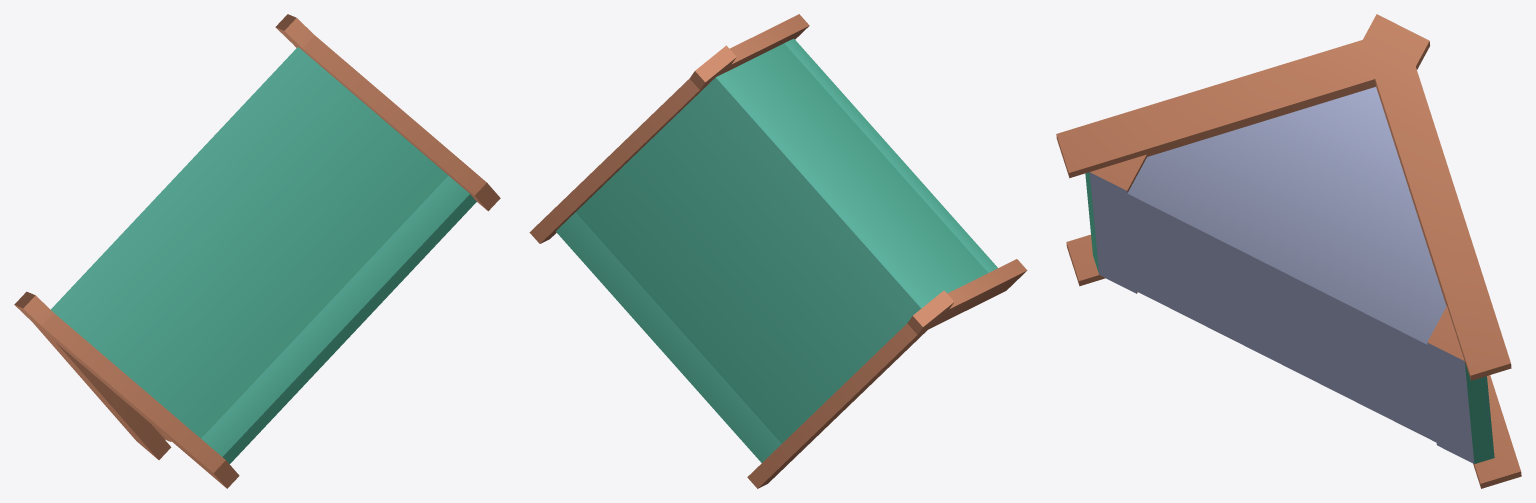
File: roof-gable-detail.003_lev1.glb
3 views of the same model, side by side, from view 1: azimuth 30°, elevation 25°; view 2: azimuth 150°, elevation 25°; view 3: azimuth 270°, elevation 25° (orthographic). The views are drawn at different scales.
Visible parts, largest first — view 1: roof-gable-detail.003_lev1; view 2: roof-gable-detail.003_lev1; view 3: roof-gable-detail.003_lev1.
Boxes of the visible parts, <box> form: roof-gable-detail.003_lev1: <box>14,14,500,488</box>; roof-gable-detail.003_lev1: <box>529,14,1027,488</box>; roof-gable-detail.003_lev1: <box>1056,14,1521,488</box>.
Bounding box in the file's own units: 6.13 × 5.96 × 4.76.
1 material, 1 textured.
